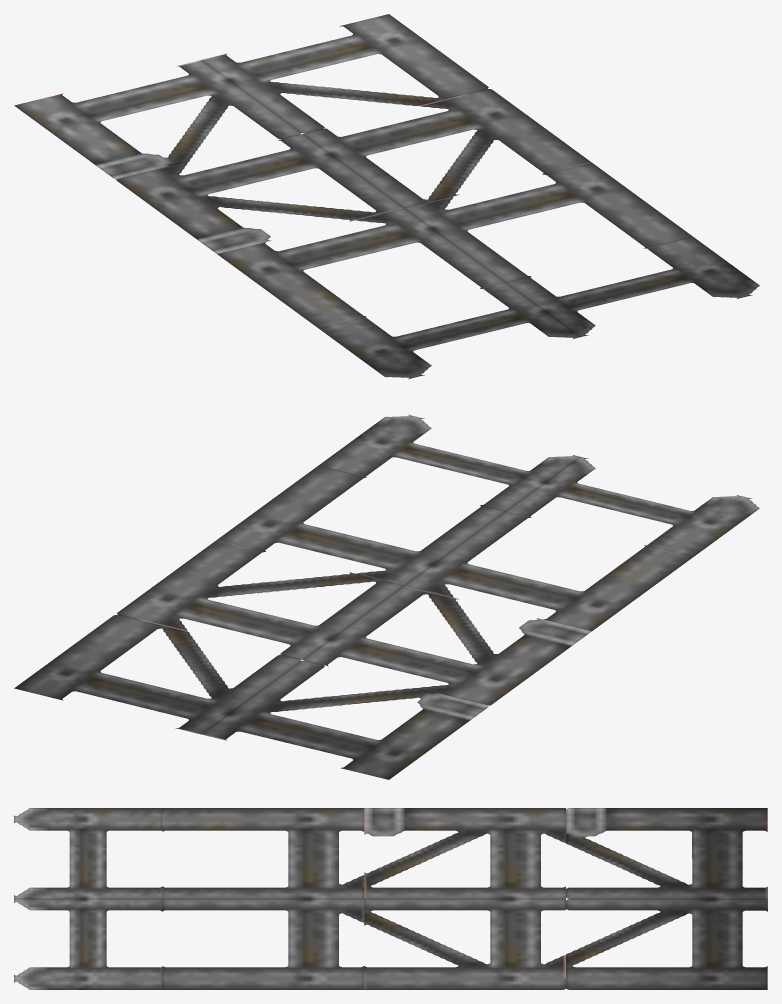
The picture shows the model from 3 angles, top to bottom: view 1: azimuth 30°, elevation 25°; view 2: azimuth 150°, elevation 25°; view 3: azimuth 270°, elevation 25°; orthographic projection.
Visible parts, largest first — view 1: T1L2M002_11; view 2: T1L2M002_11; view 3: T1L2M002_11.
Part boxes in pixels (x1,y1,x2,y2): T1L2M002_11: [14, 14, 759, 379]; T1L2M002_11: [14, 414, 759, 779]; T1L2M002_11: [14, 808, 767, 989].
Bounding box in the file's own units: 1.6 × 0.000977 × 2.8.
